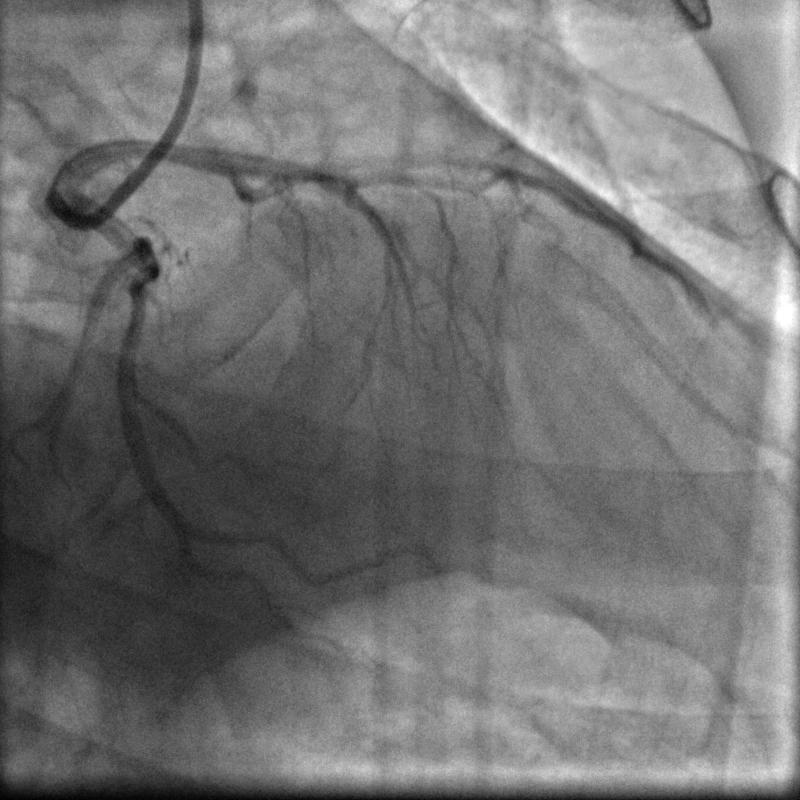Stenosis: (124, 264, 151, 328)
